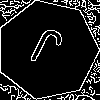J: (22, 25, 66, 78)
